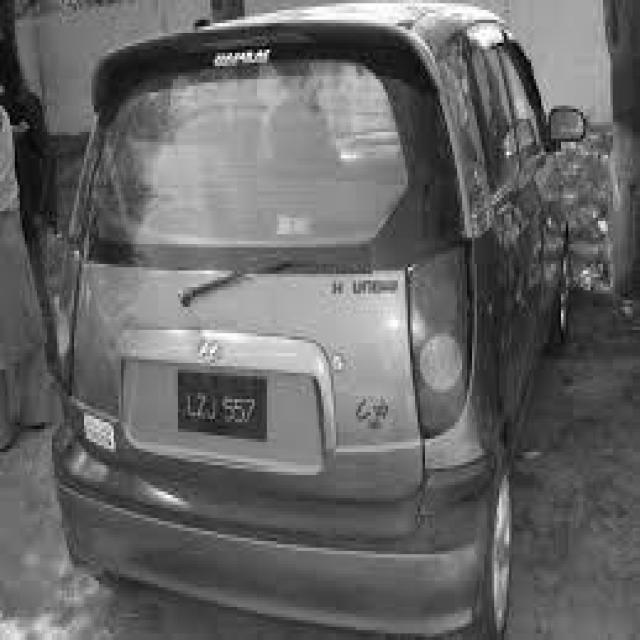car: (49, 3, 578, 640)
